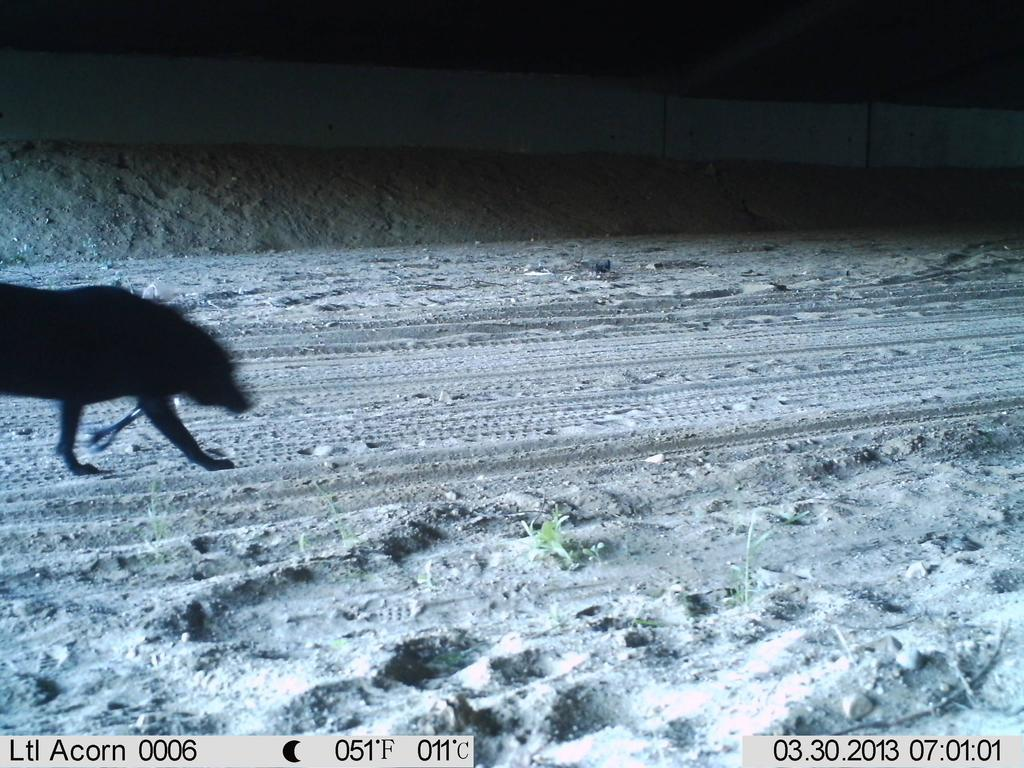dog: (1, 271, 258, 489)
